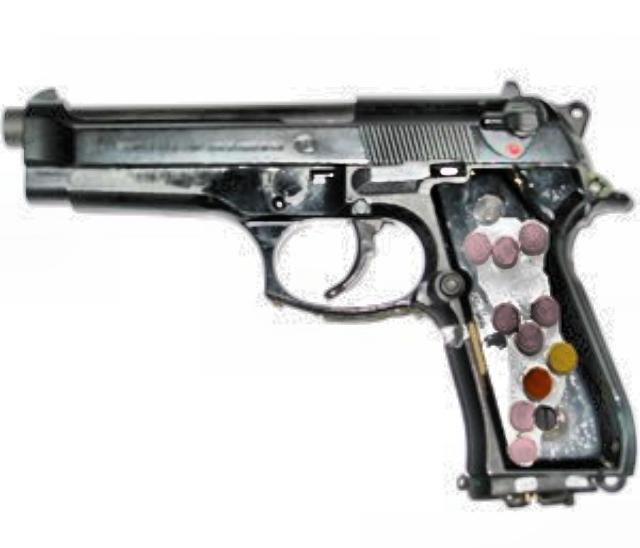pistol: (0, 88, 628, 514)
